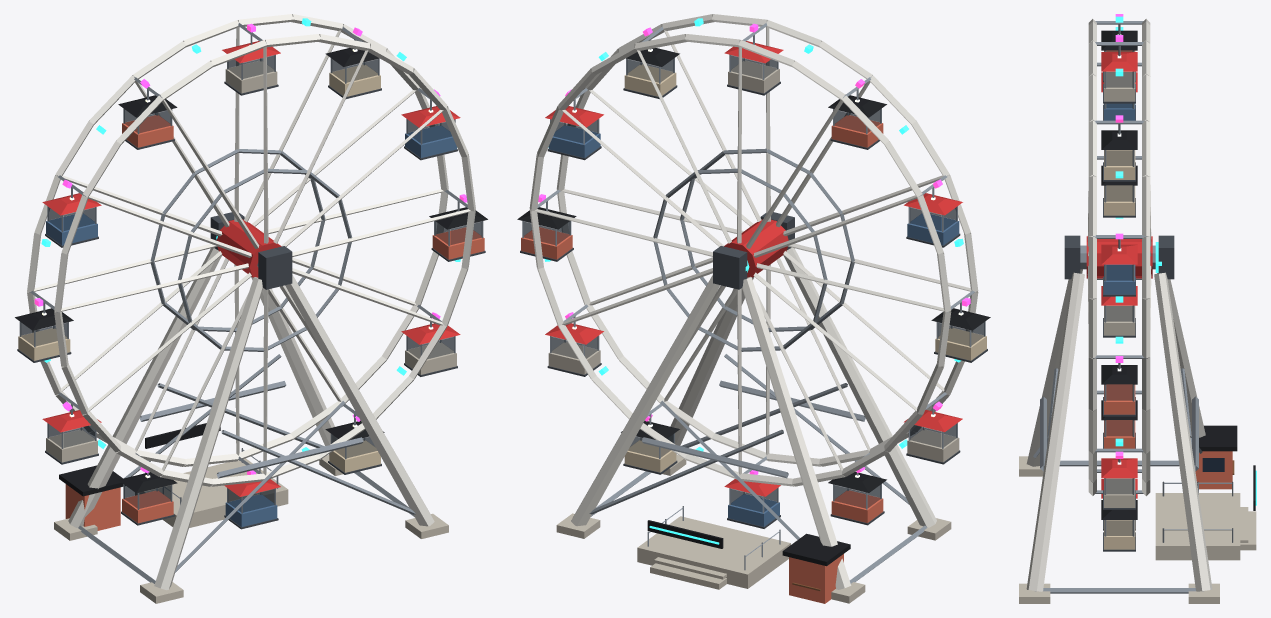
Rendered from ferris_wheel.glb.
3 views of the same model, side by side, from view 1: azimuth 30°, elevation 25°; view 2: azimuth 150°, elevation 25°; view 3: azimuth 270°, elevation 25° (orthographic).
Parts seen in each view (by area): view 1: Wheel, Base, Gondola_08, Gondola_07, Gondola_02, Gondola_06, Gondola_05, Gondola_01, Gondola_11, Gondola_03, Gondola_09, Gondola_00 (+2 smaller); view 2: Wheel, Base, Gondola_08, Gondola_07, Gondola_02, Gondola_06, Gondola_05, Gondola_01, Gondola_11, Gondola_09, Gondola_04, Gondola_03 (+2 smaller); view 3: Base, Wheel, Gondola_01, Gondola_00, Gondola_11, Gondola_02, Gondola_03, Gondola_10, Gondola_07, Gondola_06, Gondola_08, Gondola_04 (+1 smaller).
Part boxes in pixels (bbox=[...]): Wheel: bbox=[27, 14, 475, 486]; Base: bbox=[54, 212, 448, 603]; Gondola_08: bbox=[118, 472, 177, 525]; Gondola_07: bbox=[42, 404, 101, 464]; Gondola_02: bbox=[325, 38, 381, 98]; Gondola_06: bbox=[15, 302, 73, 362]; Gondola_05: bbox=[42, 187, 101, 247]; Gondola_01: bbox=[401, 99, 460, 160]; Gondola_11: bbox=[401, 316, 460, 376]; Gondola_03: bbox=[222, 35, 280, 95]; Gondola_09: bbox=[224, 479, 280, 529]; Gondola_00: bbox=[429, 201, 487, 261]; Wheel: bbox=[529, 14, 978, 486]; Base: bbox=[556, 212, 951, 603]; Gondola_08: bbox=[828, 472, 886, 525]; Gondola_07: bbox=[904, 404, 962, 464]; Gondola_02: bbox=[623, 39, 679, 99]; Gondola_06: bbox=[931, 302, 990, 362]; Gondola_05: bbox=[904, 187, 962, 247]; Gondola_01: bbox=[545, 99, 603, 160]; Gondola_11: bbox=[545, 316, 603, 376]; Gondola_09: bbox=[724, 479, 780, 528]; Gondola_04: bbox=[828, 89, 886, 149]; Gondola_03: bbox=[724, 35, 783, 95]; Base: bbox=[1019, 235, 1256, 603]; Wheel: bbox=[1080, 14, 1161, 496]; Gondola_01: bbox=[1101, 239, 1137, 296]; Gondola_00: bbox=[1101, 363, 1137, 416]; Gondola_11: bbox=[1101, 458, 1137, 509]; Gondola_02: bbox=[1101, 124, 1137, 181]; Gondola_03: bbox=[1101, 45, 1137, 103]; Gondola_10: bbox=[1101, 500, 1137, 551]; Gondola_07: bbox=[1101, 286, 1137, 337]; Gondola_06: bbox=[1101, 165, 1137, 217]; Gondola_08: bbox=[1101, 400, 1137, 448]; Gondola_04: bbox=[1101, 24, 1137, 82].
Size of the model in its own units: 33 by 34.95 by 15.15.
